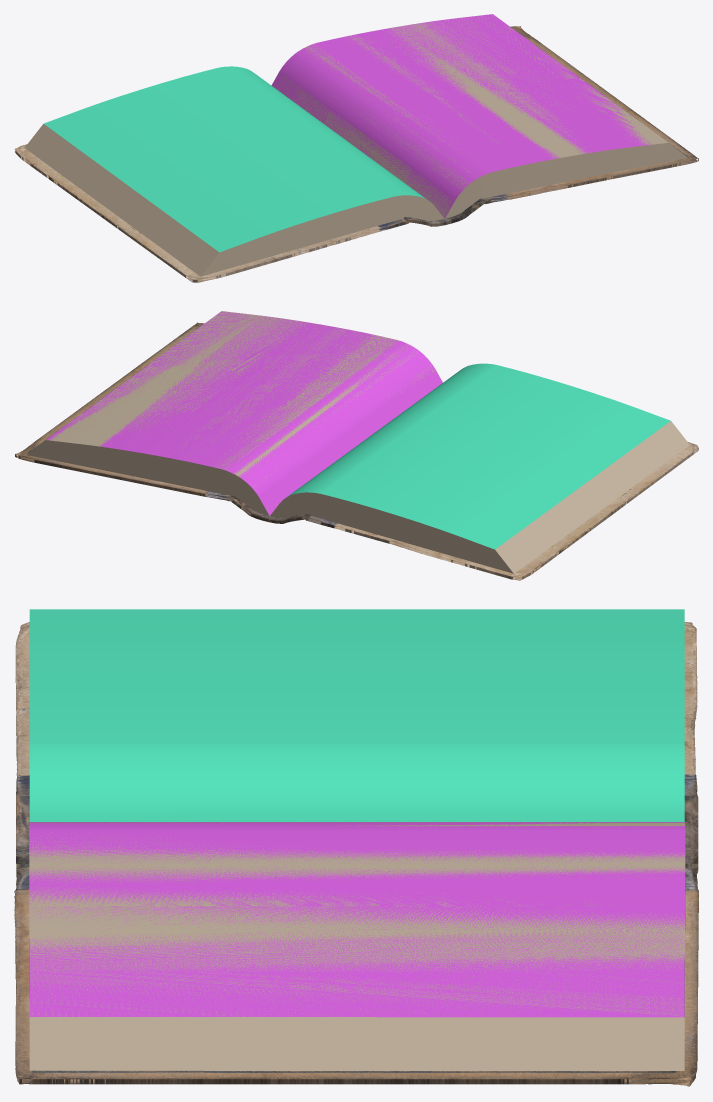
The model's file is BookTest.fbx.
3 views of the same model, one above another, from view 1: azimuth 30°, elevation 25°; view 2: azimuth 150°, elevation 25°; view 3: azimuth 270°, elevation 25° (orthographic). The views are drawn at different scales.
Parts seen in each view (by area): view 1: Pages, AnimatedPage, MainBookCover; view 2: Pages, AnimatedPage, MainBookCover; view 3: Pages, AnimatedPage, MainBookCover.
Part boxes in pixels (x1,y1,x2,y2): Pages: (24, 14, 687, 276); AnimatedPage: (275, 16, 668, 217); MainBookCover: (14, 26, 698, 282); Pages: (27, 311, 689, 573); AnimatedPage: (48, 311, 434, 512); MainBookCover: (15, 322, 698, 580); Pages: (29, 609, 685, 1070); AnimatedPage: (29, 822, 685, 1016); MainBookCover: (14, 622, 698, 1086).
Size of the model in its own units: 194 by 13.86 by 121.
